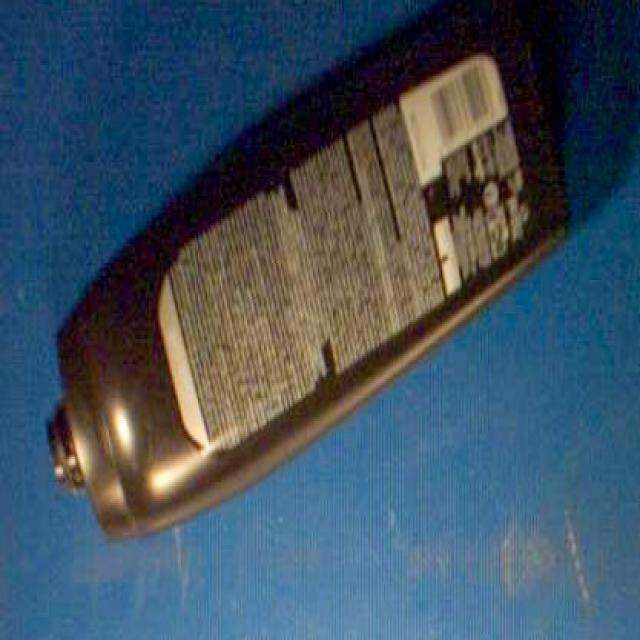HDPE Plastic: (38, 1, 576, 546)
